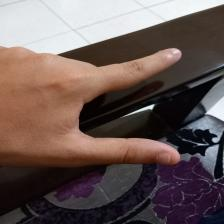five: (7, 43, 207, 164)
